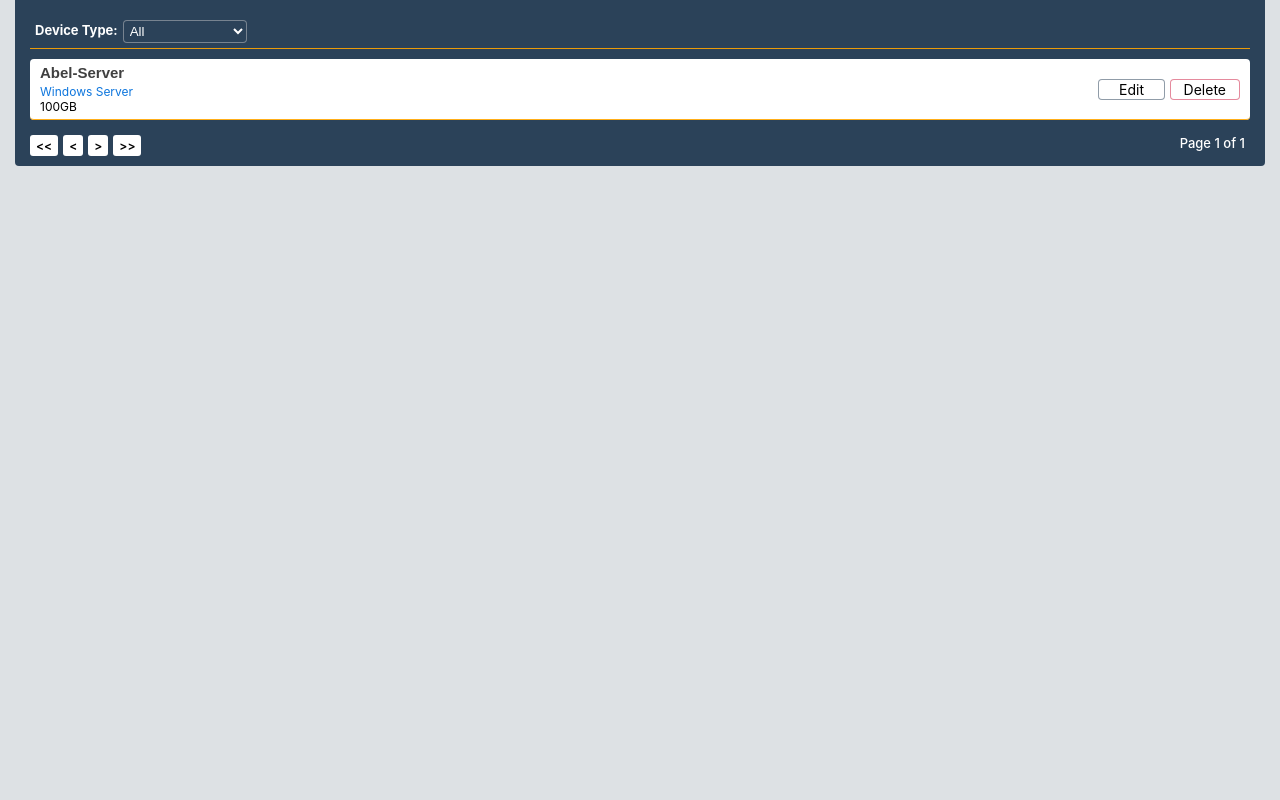
Renders Device table components › clicks edit row and renders popup
The image size is (1280, 800).
What coordinates should you click on to do the following:
click the button with test id "devices-table-edit-button"
I would click on:
 (1132, 90)
Its box is [1098, 79, 1165, 100].
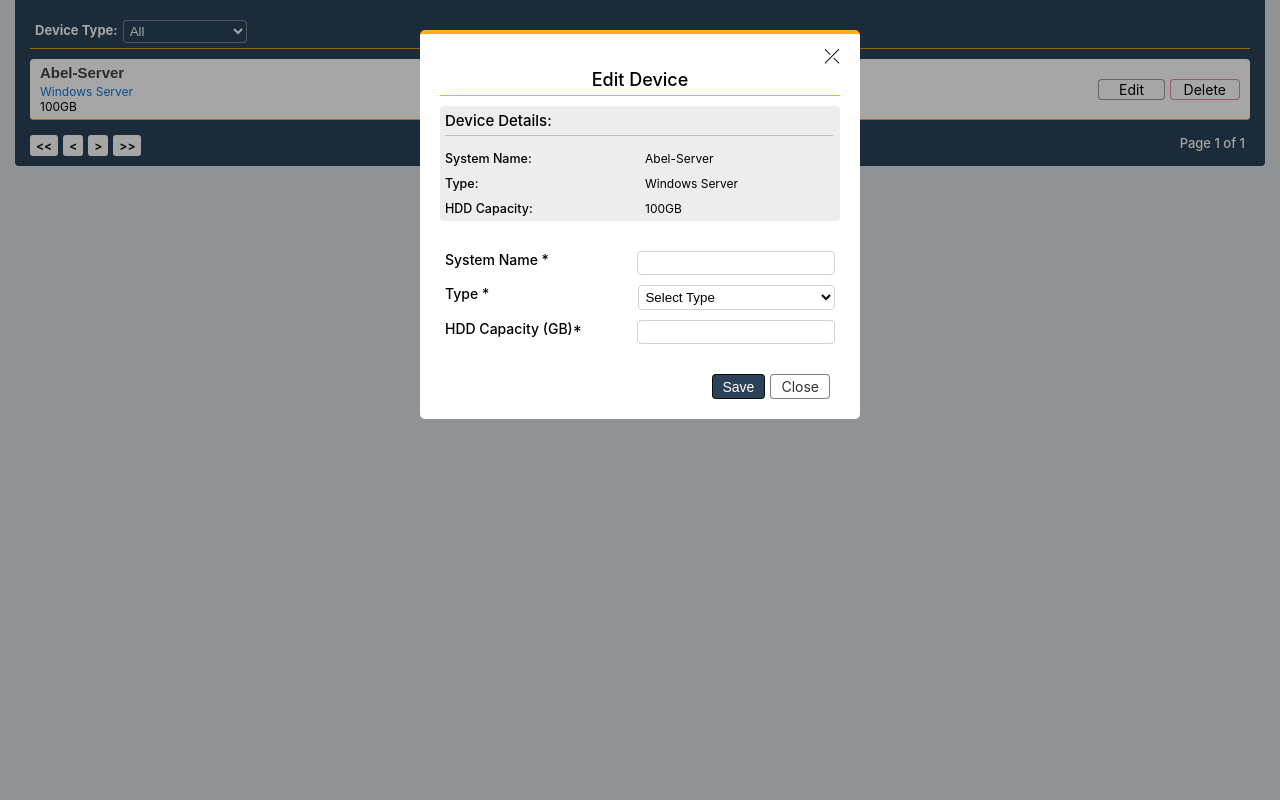
Expected: the element with test id "edit-device-popup" is shown, [420, 30, 860, 419]
